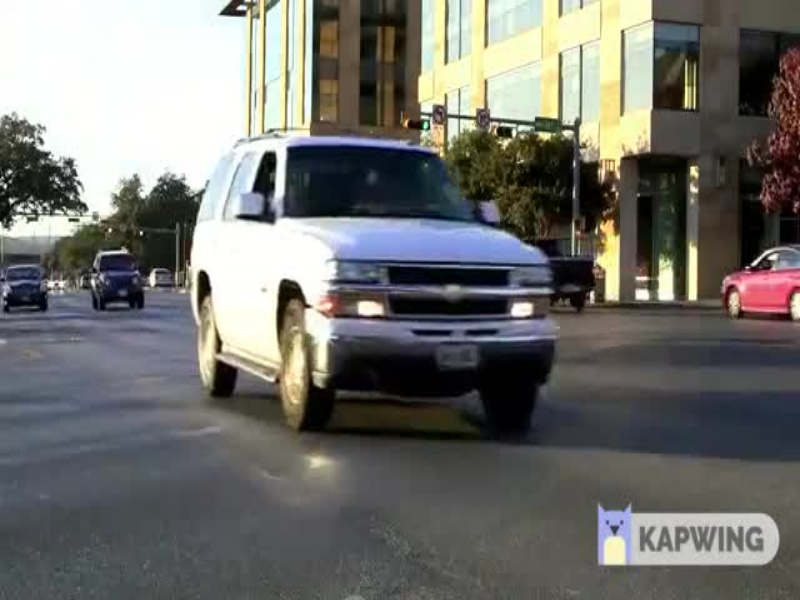car: (711, 242, 800, 331), (1, 260, 59, 319)
suv: (167, 114, 570, 447), (84, 245, 148, 322)
